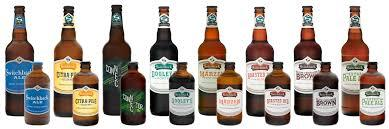Glass bottle: (0, 1, 388, 129)
